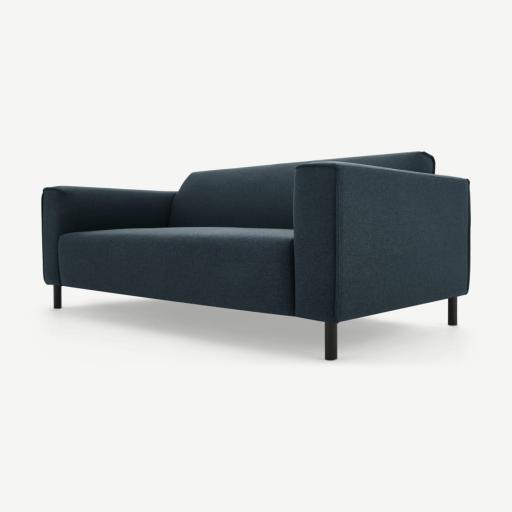back_cushion: (169, 162, 305, 229)
left_arm: (294, 163, 470, 321)
legs: (325, 323, 337, 360), (448, 298, 456, 325), (53, 286, 62, 309)
one-seater: (41, 152, 470, 360)
right_arm: (42, 186, 176, 285)
seat_cushion: (58, 227, 294, 315)
